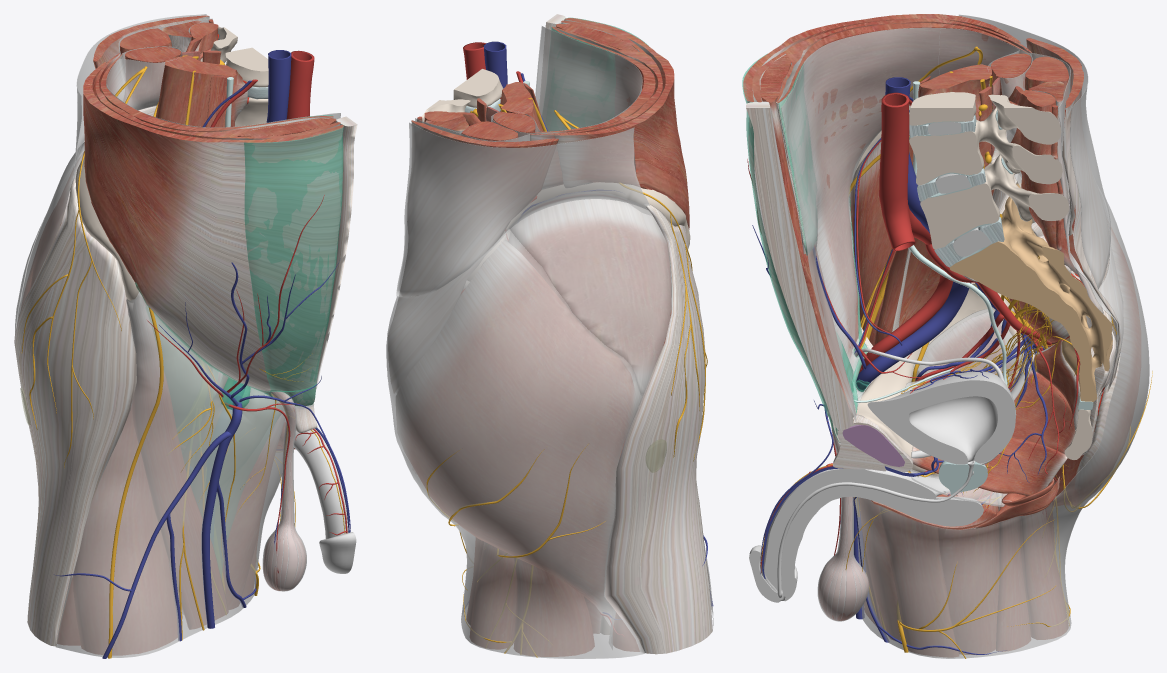
The model's file is inguinal-canal.glb.
The picture shows the model from 3 angles, left to right: view 1: azimuth 30°, elevation 25°; view 2: azimuth 150°, elevation 25°; view 3: azimuth 270°, elevation 25°; orthographic projection. The views are drawn at different scales.
Parts seen in each view (by area): view 1: External abdominal oblique muscle.r, Fascia lata.r, Iliotibial tract.r, Rectus sheath anterior wall overlay.r, Rectus femoris muscle.r, Sartorius muscle.r, Femoral triangle overlay.r, External spermatic fascia.r, Psoas major.r1, Adductor longus muscle.r, Cremaster muscle and fascia.r, Corpus cavernosum of penis (+34 smaller); view 2: Fascia lata.r1, Gluteus maximus muscle.r, Iliotibial tract.r, Deep membranous fascia of subcutaneous tissue (Scarpa's fasc, Latissimus dorsi.r, Gluteal aponeurosis.r, Gluteus medius muscle.r, Transversalis fascia.r, External abdominal oblique muscle.r, Biceps femoris, long head.r, External abdominal oblique muscle.r1, Semitendinosus muscle.r (+18 smaller); view 3: Fascia lata.r1, Transversalis fascia.r, Transversus abdominis muscle.r, Fascia lata.r, Sacrum, Urinary bladder, Linea alba, Latissimus dorsi.r, Gluteus maximus muscle.r, Gracilis muscle.r, Adductor magnus.r, External iliac artery.r1 (+55 smaller).
Part boxes in pixels (x1,y1,x2,y2): External abdominal oblique muscle.r: (84, 95, 343, 406); Fascia lata.r: (55, 292, 314, 657); Iliotibial tract.r: (14, 177, 136, 646); Rectus sheath anterior wall overlay.r: (244, 125, 343, 391); Rectus femoris muscle.r: (73, 407, 177, 655); Sartorius muscle.r: (126, 294, 228, 629); Femoral triangle overlay.r: (146, 306, 282, 577); External spermatic fascia.r: (262, 390, 306, 591); Psoas major.r1: (156, 55, 247, 127); Adductor longus muscle.r: (223, 412, 284, 609); Cremaster muscle and fascia.r: (263, 392, 305, 590); Corpus cavernosum of penis: (285, 420, 348, 538); Fascia lata.r1: (386, 229, 644, 658); Gluteus maximus muscle.r: (396, 240, 636, 625); Iliotibial tract.r: (604, 203, 712, 654); Deep membranous fascia of subcutaneous tissue (Scarpa's fasc: (396, 122, 649, 296); Latissimus dorsi.r: (388, 120, 558, 393); Gluteal aponeurosis.r: (509, 192, 671, 397); Gluteus medius muscle.r: (508, 199, 671, 407); Transversalis fascia.r: (535, 26, 642, 131); External abdominal oblique muscle.r: (564, 18, 689, 229); Biceps femoris, long head.r: (514, 558, 594, 656); External abdominal oblique muscle.r1: (554, 122, 637, 187); Semitendinosus muscle.r: (470, 542, 516, 649); Fascia lata.r1: (942, 193, 1149, 658); Transversalis fascia.r: (781, 27, 940, 425); Transversus abdominis muscle.r: (776, 23, 946, 367); Fascia lata.r: (838, 440, 959, 658); Sacrum: (950, 183, 1112, 401); Urinary bladder: (867, 371, 1015, 464); Linea alba: (746, 101, 853, 430); Latissimus dorsi.r: (1026, 38, 1123, 392); Gluteus maximus muscle.r: (1051, 220, 1140, 506); Gracilis muscle.r: (879, 506, 958, 657); Adductor magnus.r: (938, 492, 998, 654); External iliac artery.r1: (879, 92, 953, 340).
Size of the model in its own units: 0.1804 by 0.3514 by 0.2252.
31 materials, 11 textured.
